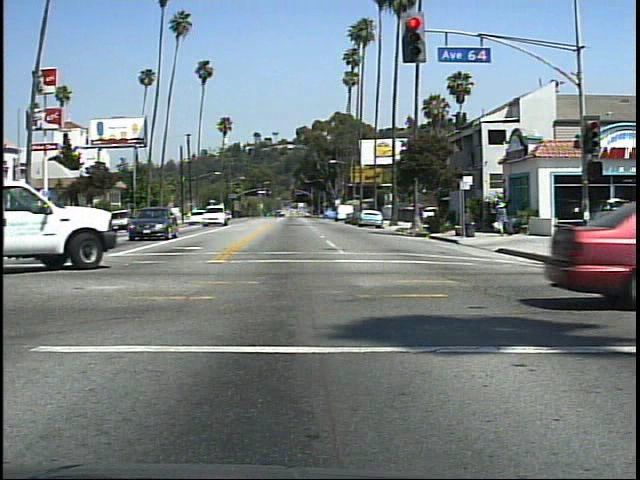person: (494, 195, 514, 234)
